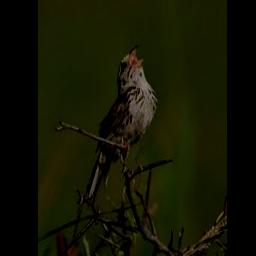Sparrow: (82, 43, 161, 214)
